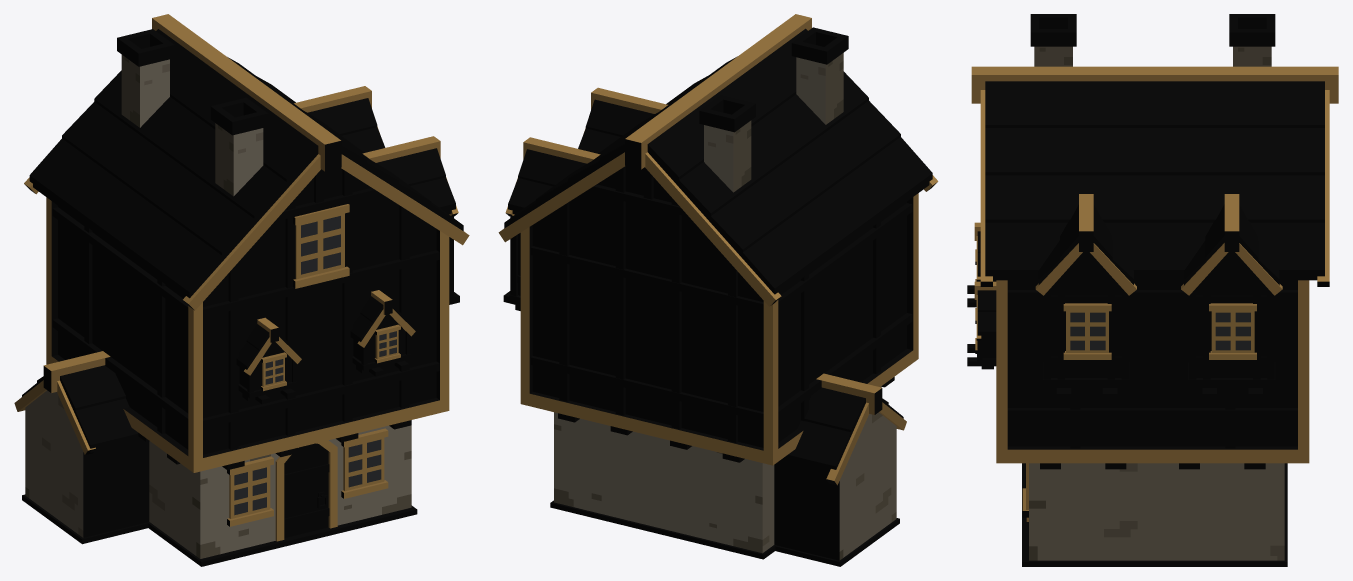
Rendered from House_Large_02.gltf.
3 views of the same model, side by side, from view 1: azimuth 30°, elevation 25°; view 2: azimuth 150°, elevation 25°; view 3: azimuth 270°, elevation 25° (orthographic). The views are drawn at different scales.
Visible parts, largest first — view 1: SF_Bld_House_Large_02; view 2: SF_Bld_House_Large_02; view 3: SF_Bld_House_Large_02.
Boxes of the visible parts, <box> form: SF_Bld_House_Large_02: <box>14,14,469,566</box>; SF_Bld_House_Large_02: <box>498,14,938,566</box>; SF_Bld_House_Large_02: <box>967,14,1338,566</box>.
Size of the model in its own units: 0.1513 by 0.1802 by 0.132.
Materials: 1 (1 with a texture image).
